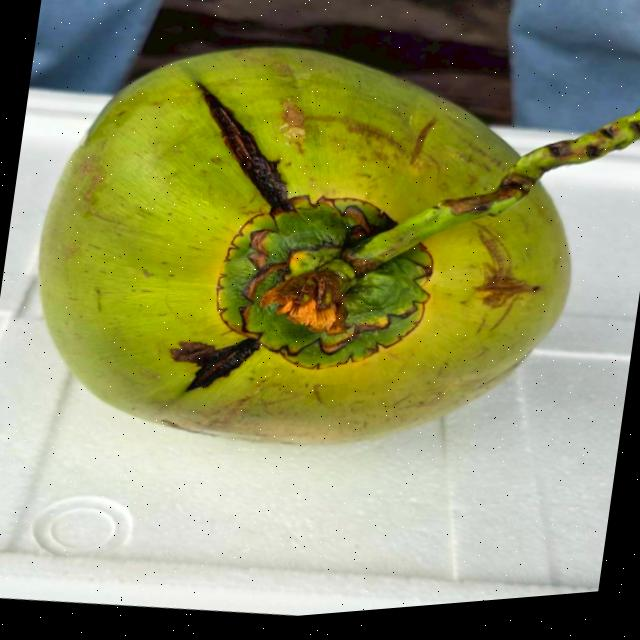coco_2.0: (179, 145, 473, 416)
